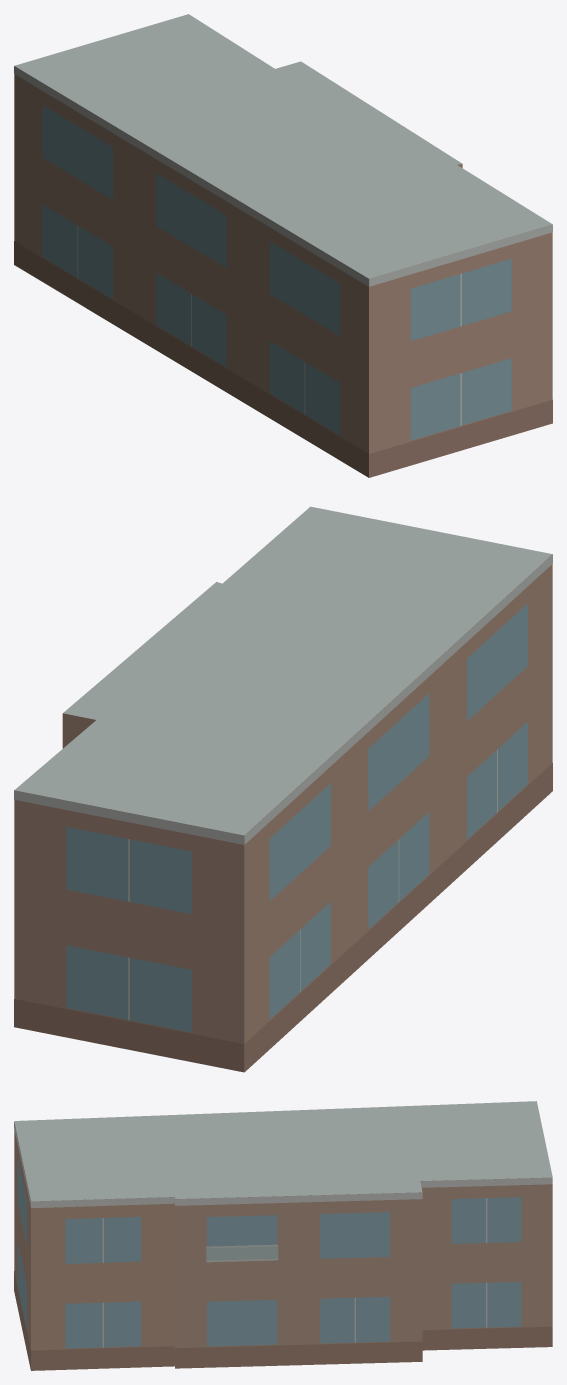
File: survey-upis-32739104.glb
3 views of the same model, one above another, from view 1: azimuth 30°, elevation 25°; view 2: azimuth 150°, elevation 25°; view 3: azimuth 270°, elevation 25° (orthographic). The views are drawn at different scales.
Visible parts, largest first — view 1: survey-upis-32739104.tmp; view 2: survey-upis-32739104.tmp; view 3: survey-upis-32739104.tmp.
Part boxes in pixels (bbox=[...]): survey-upis-32739104.tmp: bbox=[14, 14, 552, 477]; survey-upis-32739104.tmp: bbox=[14, 506, 552, 1072]; survey-upis-32739104.tmp: bbox=[14, 1101, 552, 1370].
Bounding box in the file's own units: 7.76 × 6.1 × 17.59.
